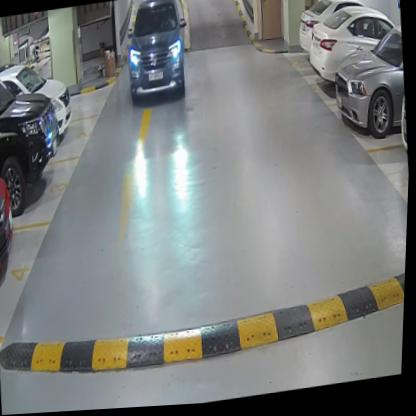np: (148, 72, 166, 83)
